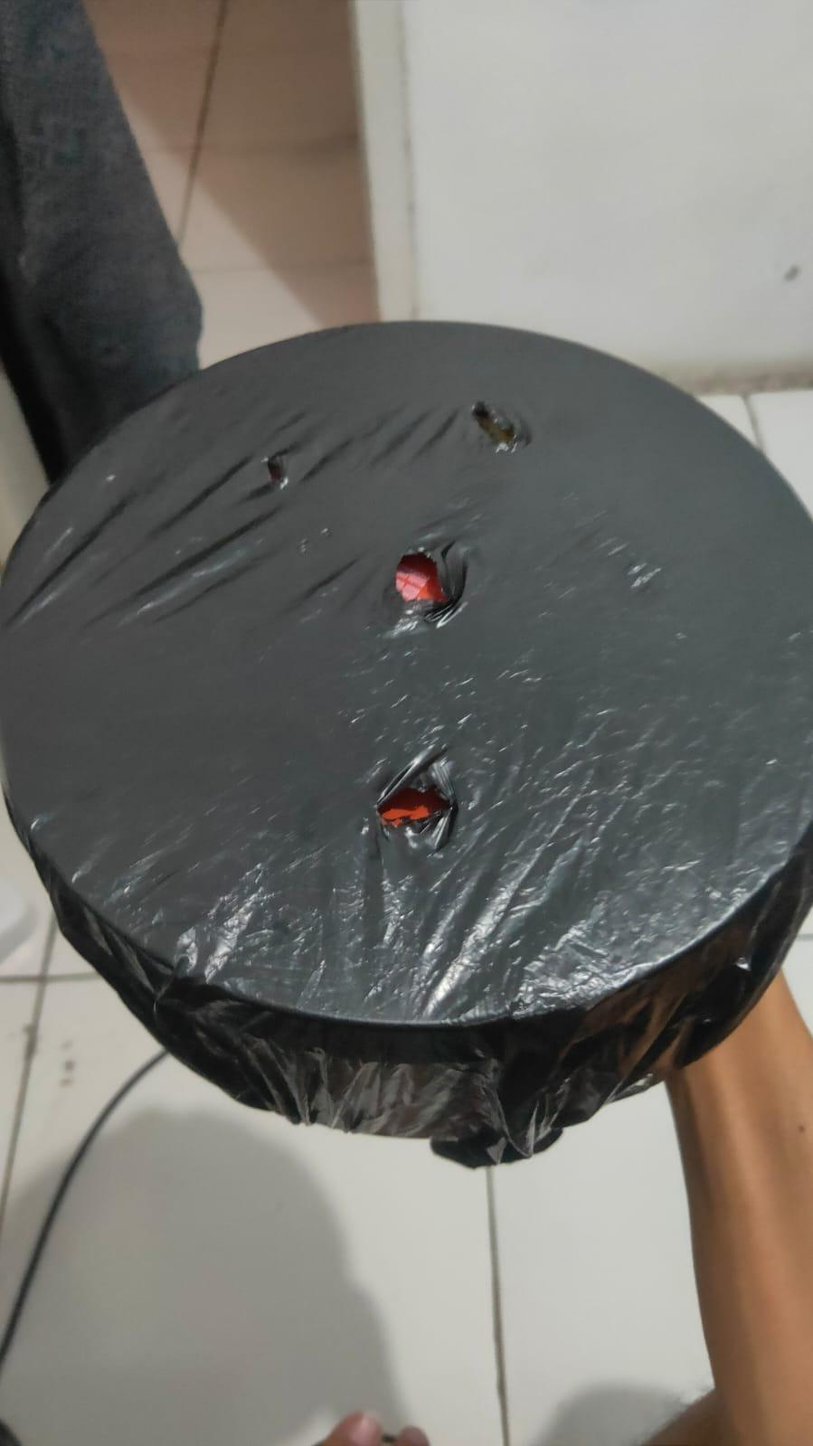damaged package: (371, 758, 459, 847), (377, 541, 471, 621), (450, 394, 530, 463), (261, 444, 292, 495)
undamaged: (0, 305, 811, 1181)
